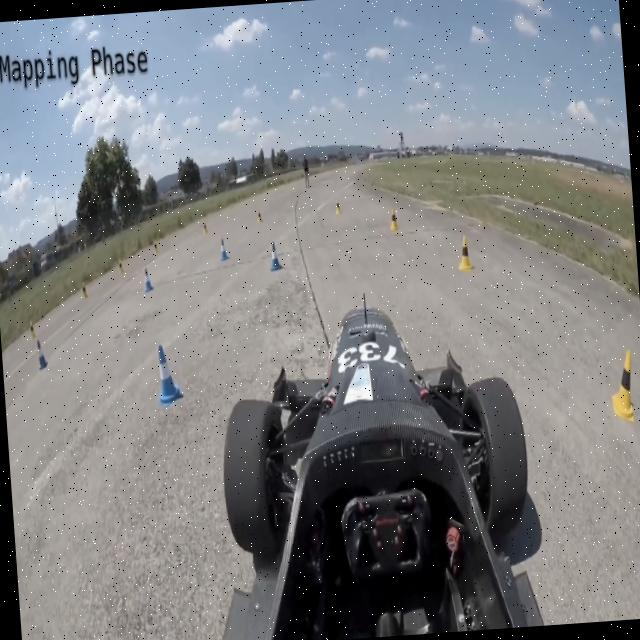blue_cone: (153, 342, 185, 408), (266, 240, 283, 274), (34, 337, 50, 373), (140, 264, 154, 298), (217, 236, 229, 264)
yellow_cone: (604, 344, 640, 421), (454, 230, 475, 272), (388, 208, 401, 234), (332, 197, 342, 218), (28, 318, 36, 342), (254, 208, 263, 226), (80, 282, 88, 301), (202, 220, 210, 237), (152, 239, 159, 256), (118, 258, 124, 276)
